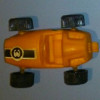carro: (5, 16, 96, 86)
